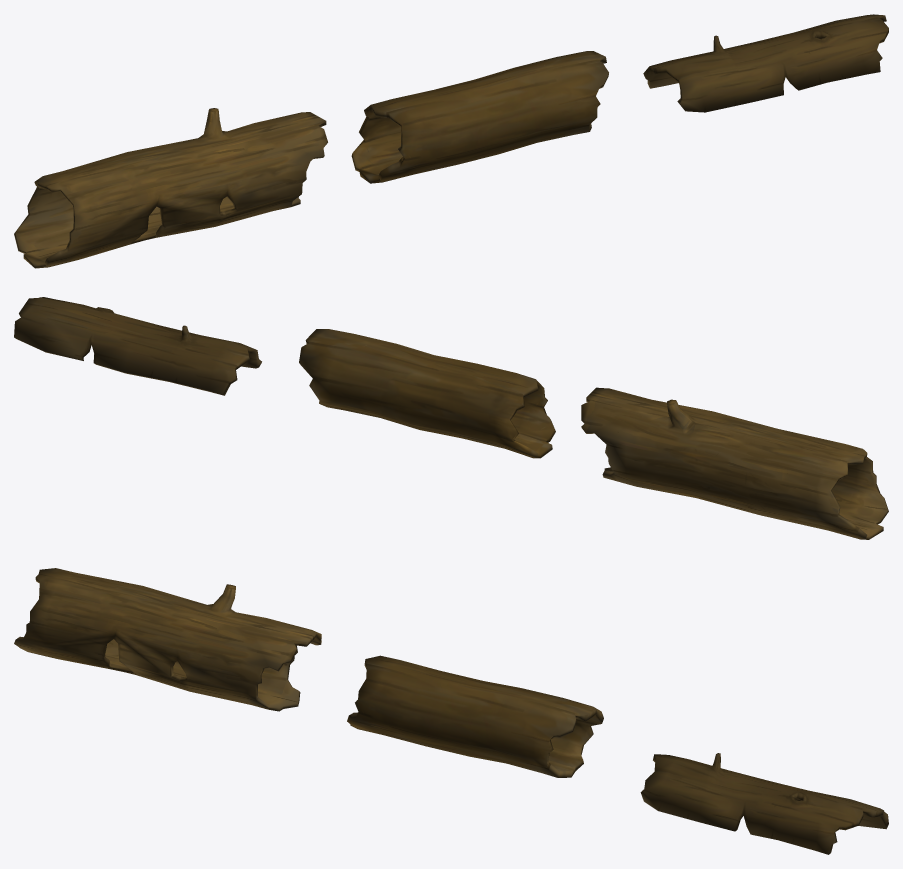
The model's file is Timber.obj.
3 views of the same model, one above another, from view 1: azimuth 30°, elevation 25°; view 2: azimuth 150°, elevation 25°; view 3: azimuth 330°, elevation 25° (orthographic). The views are drawn at different scales.
Parts seen in each view (by area): view 1: Timber_1_Cylinder, Timber_2_Cylinder.007, Timber_3_Cylinder.022; view 2: Timber_1_Cylinder, Timber_2_Cylinder.007, Timber_3_Cylinder.022; view 3: Timber_1_Cylinder, Timber_2_Cylinder.007, Timber_3_Cylinder.022.
Part boxes in pixels (x1,y1,x2,y2): Timber_1_Cylinder: (14, 108, 327, 268); Timber_2_Cylinder.007: (351, 51, 608, 183); Timber_3_Cylinder.022: (643, 14, 888, 112); Timber_1_Cylinder: (581, 387, 888, 539); Timber_2_Cylinder.007: (299, 329, 555, 458); Timber_3_Cylinder.022: (14, 297, 261, 395); Timber_1_Cylinder: (14, 568, 321, 711); Timber_2_Cylinder.007: (347, 655, 603, 777); Timber_3_Cylinder.022: (640, 753, 888, 854).
Size of the model in its own units: 33.47 by 3.67 by 3.13.
1 material, 1 textured.
